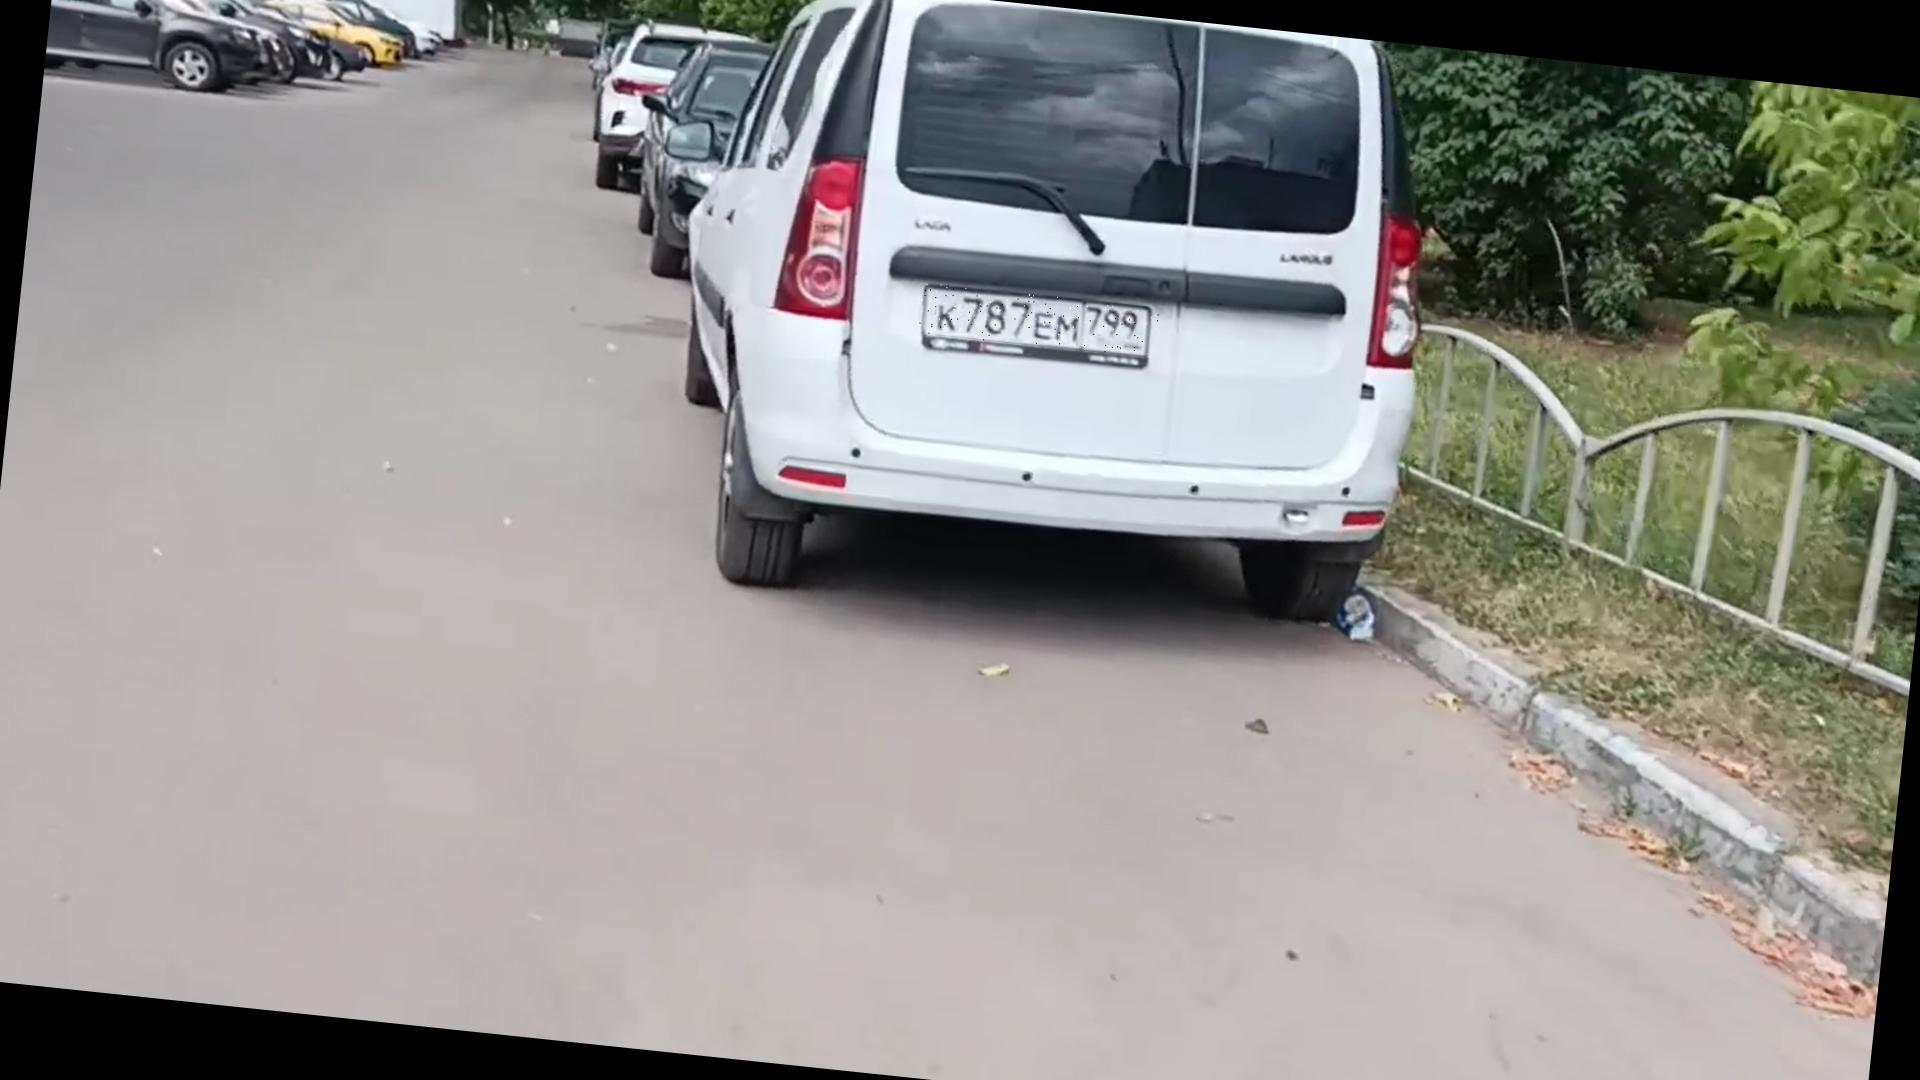plate: (916, 284, 1161, 360)
